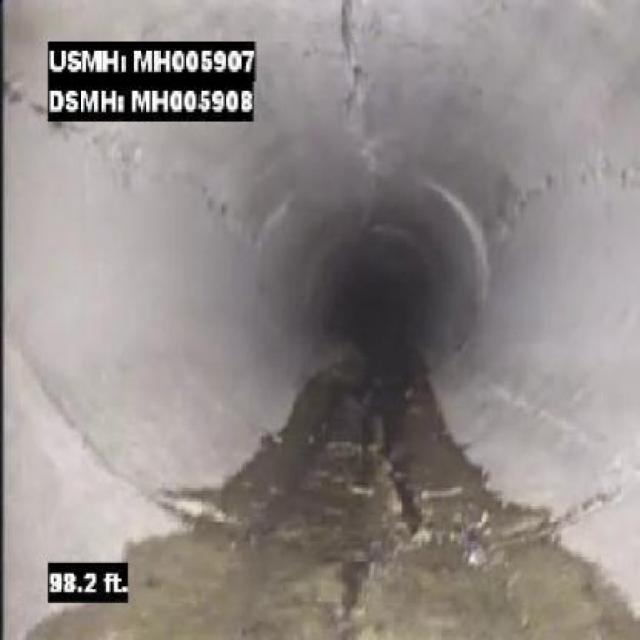Buckling: (331, 411, 451, 632)
Crack: (492, 138, 637, 248), (151, 146, 266, 254), (334, 0, 375, 126), (84, 126, 148, 191), (6, 54, 49, 138)
